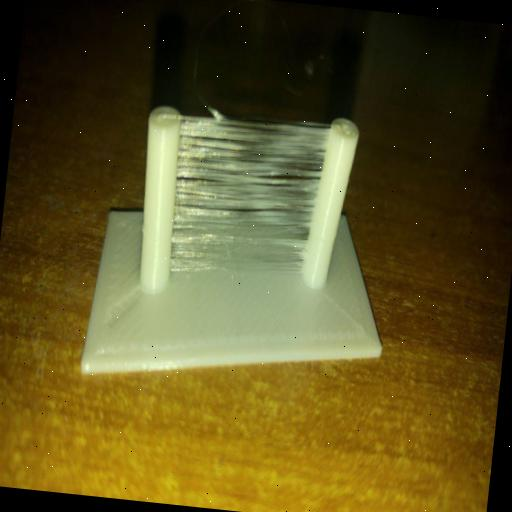stringing: (170, 115, 330, 277)
